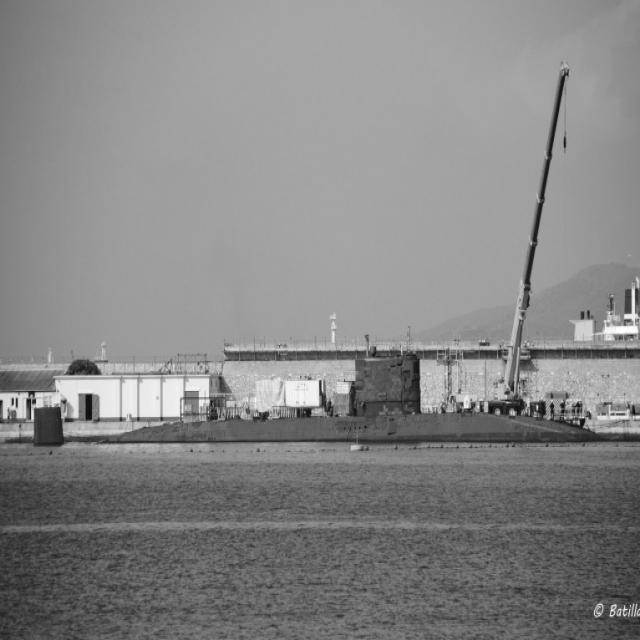submarine: (33, 356, 602, 448)
